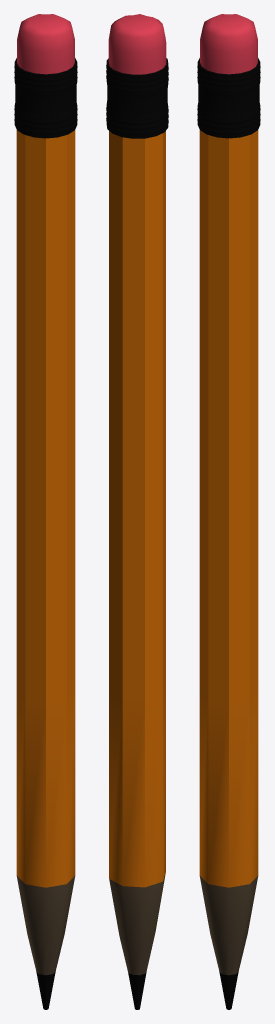
Rendered from Pencil.fbx.
3 views of the same model, side by side, from view 1: azimuth 90°, elevation 25°; view 2: azimuth 150°, elevation 25°; view 3: azimuth 270°, elevation 25° (orthographic).
Visible parts, largest first — view 1: Eraser; view 2: Eraser; view 3: Eraser.
Boxes of the visible parts, x1=… form: Eraser: x1=14, y1=14, x2=77, y2=1009; Eraser: x1=106, y1=14, x2=168, y2=1009; Eraser: x1=197, y1=14, x2=260, y2=1009.
Bounding box in the file's own units: 0.0763 × 1.31 × 0.0763.
